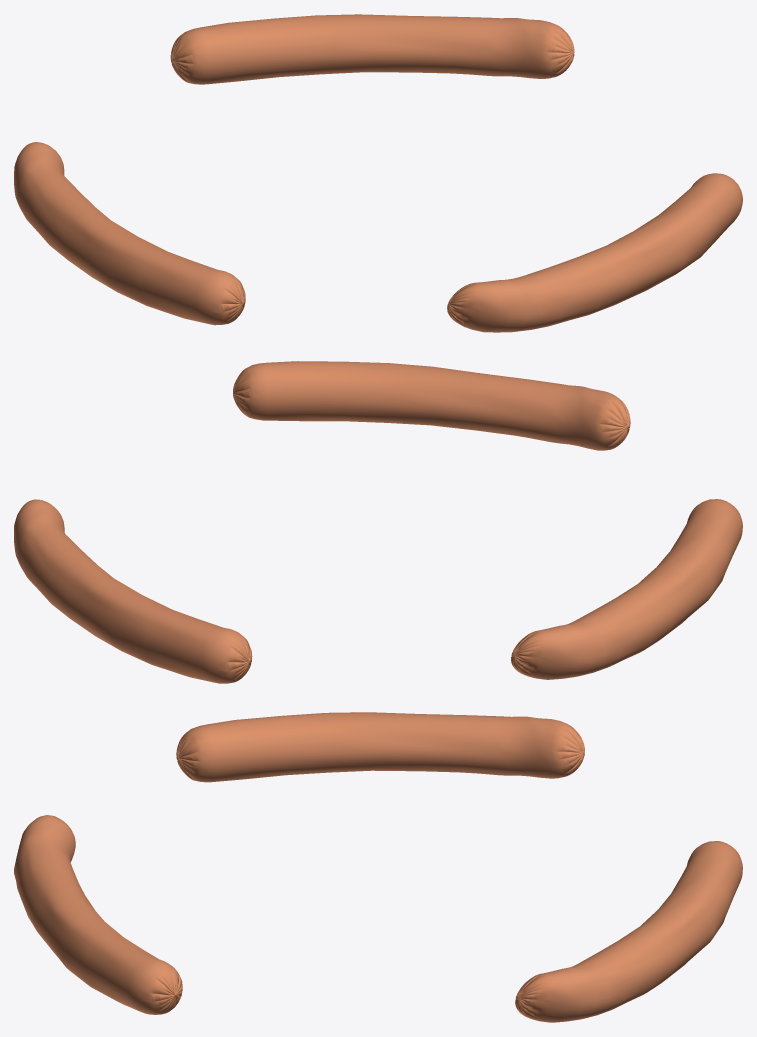
Rendered from Sausage.fbx.
3 renders of one model, top to bottom at view 1: azimuth 30°, elevation 25°; view 2: azimuth 150°, elevation 25°; view 3: azimuth 270°, elevation 25°, orthographic.
Visible parts, largest first — view 1: sausage_sausage_mat_0.001, sausage_sausage_mat_0.002, sausage_sausage_mat_0; view 2: sausage_sausage_mat_0.002, sausage_sausage_mat_0.001, sausage_sausage_mat_0; view 3: sausage_sausage_mat_0, sausage_sausage_mat_0.001, sausage_sausage_mat_0.002.
Part boxes in pixels (x1,y1,x2,y2): sausage_sausage_mat_0.001: [170, 14, 574, 84]; sausage_sausage_mat_0.002: [447, 173, 742, 332]; sausage_sausage_mat_0: [14, 142, 245, 325]; sausage_sausage_mat_0.002: [233, 361, 630, 450]; sausage_sausage_mat_0.001: [14, 499, 252, 683]; sausage_sausage_mat_0: [511, 499, 742, 679]; sausage_sausage_mat_0: [176, 712, 584, 782]; sausage_sausage_mat_0.001: [515, 841, 742, 1022]; sausage_sausage_mat_0.002: [14, 815, 182, 1014].
Bounding box in the file's own units: 75.59 × 7.16 × 82.28.
3 materials, 3 textured.
